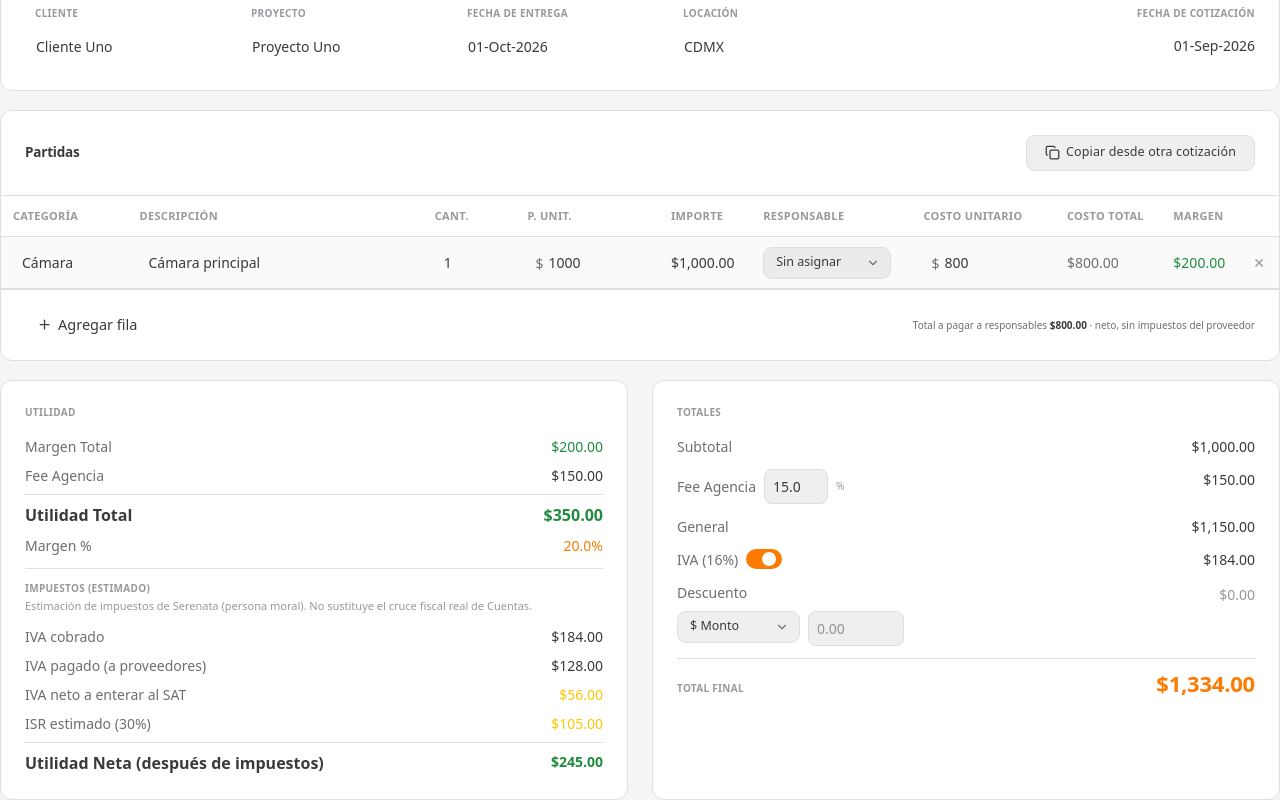
it: page.tsx -- characterization de autosave/flush/reconciliación (3D-0) › T8: conflicto en un campo de Totales -- banner, "usar" revierte el campo, "mantener" reintenta con base refrescada
Type "100" into the number field with placeholder "0.00" at (856, 628), box x1=808 y1=611 x2=904 y2=646
Wait 800 ms
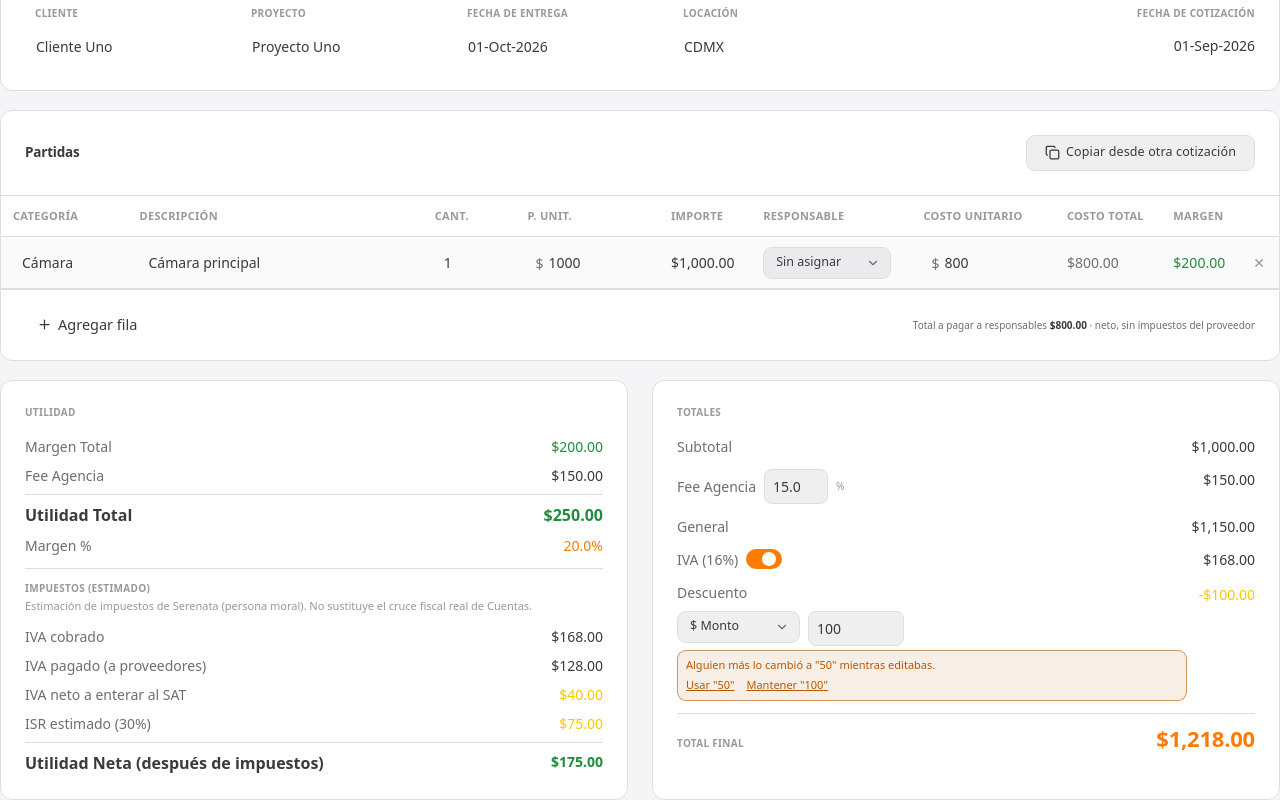
expect the button "Usar \"50\"" is shown: met
expect the button "Mantener \"100\"" is shown: met, box x1=746 y1=677 x2=828 y2=694
Click the button "Usar \"50\"" at (710, 686), box x1=686 y1=677 x2=734 y2=694
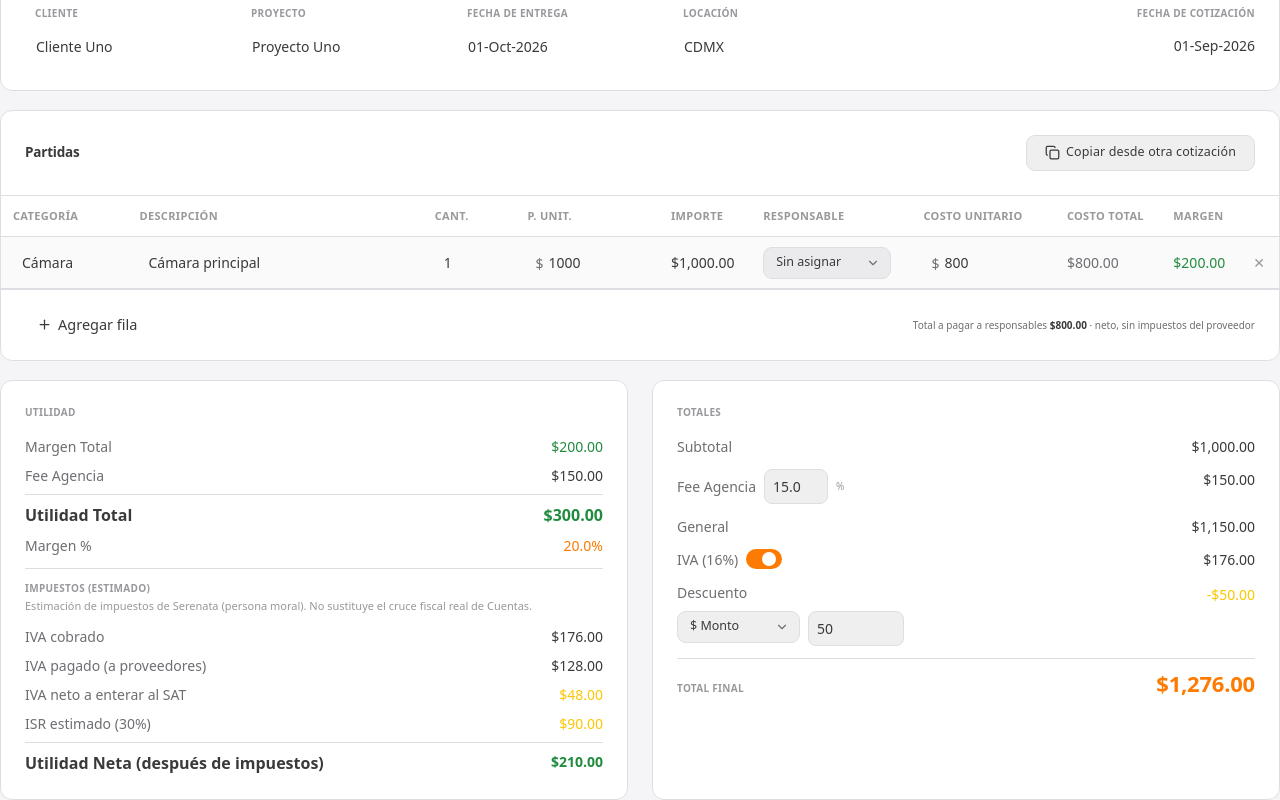
expect the number field below "Descuento" holds "50": met, box x1=808 y1=611 x2=904 y2=646
expect the button "Usar \"50\"" is gone: met
